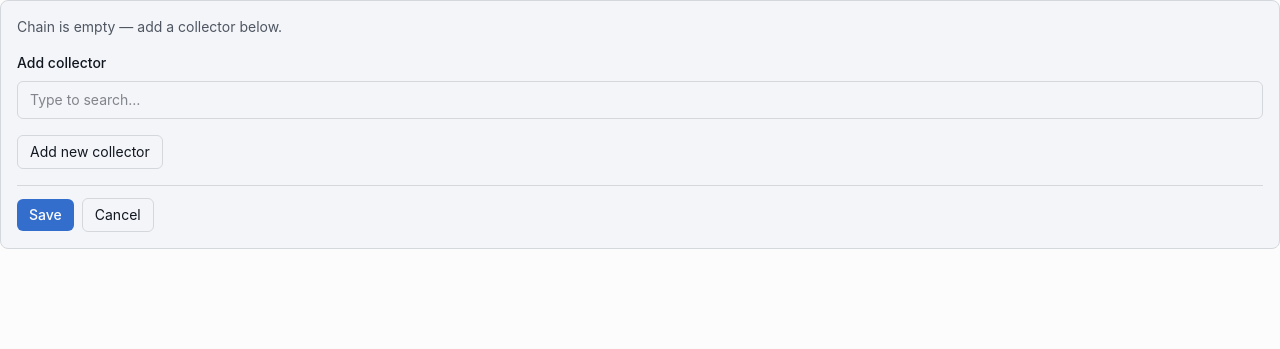
Test: CollectorChainEditor › adds a collector from the autocomplete and excludes it from later suggestions
Expected: the text "Chain is empty — add a collector below." is shown, [17,18,282,35]
Type "curi" into the search field with test id "chain-search" at (640, 100), box [17,81,1263,119]
Wait 310 ms
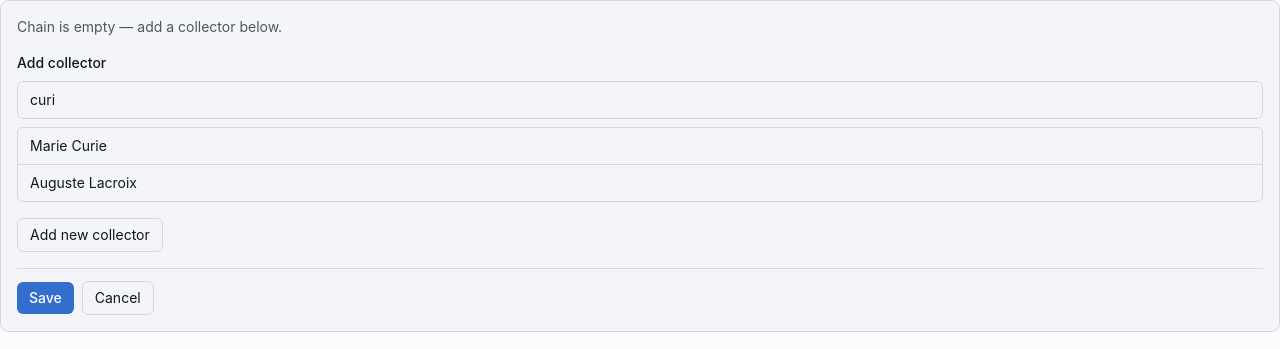
Expected: the number of buttons with test id "chain-suggestion" is 2
Click the button with test id "chain-suggestion" showing "Marie Curie" at (68, 146), box [18,128,1262,164]
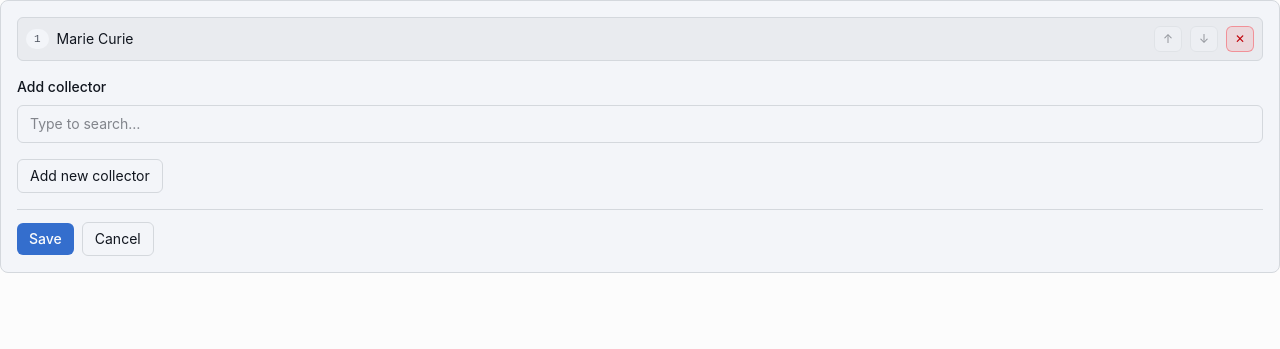
Expected: the number of list items with test id "chain-row" is 1, [17,17,1263,61]
Expected: the list item with test id "chain-row" shows "Marie Curie", [57,30,134,47]
Expected: the search field with test id "chain-search" is empty
# Search again — already-in-chain entry must be filtered out.
Type "au" into the search field with test id "chain-search" at (640, 124), box [17,105,1263,143]
Wait 310 ms
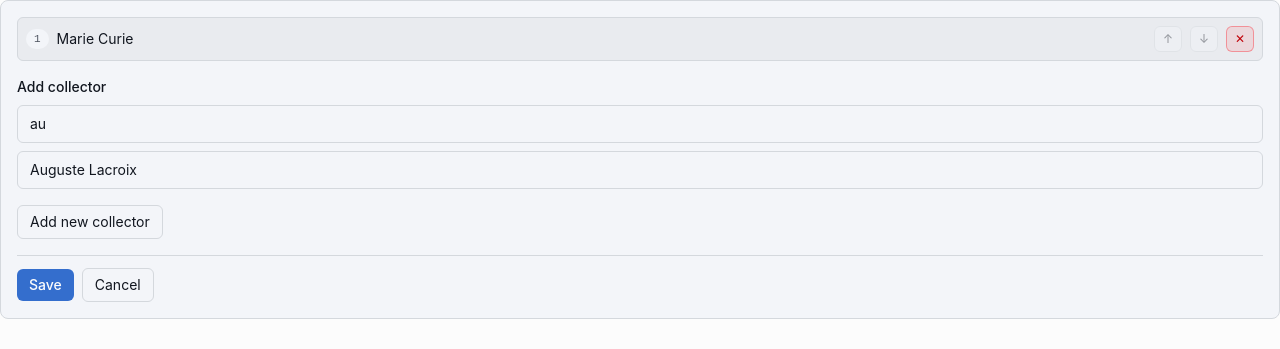
Expected: the number of buttons with test id "chain-suggestion" is 1, [18,152,1262,188]
Expected: the button with test id "chain-suggestion" reads "Auguste Lacroix", [18,152,1262,188]
